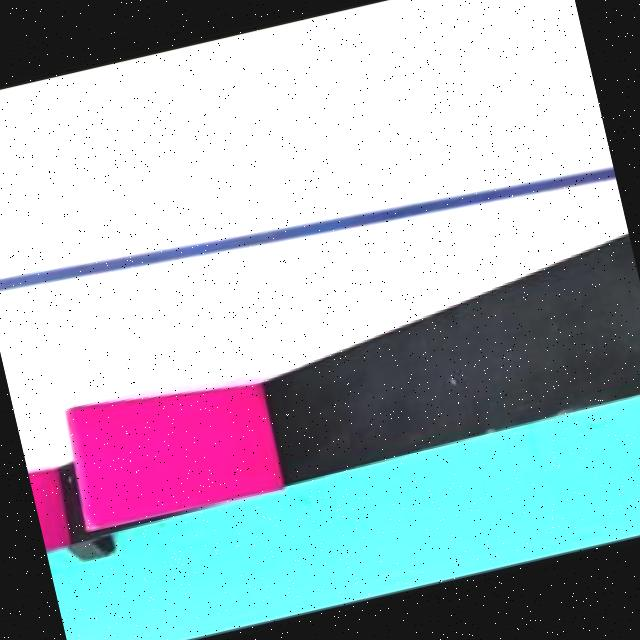xparking: (68, 371, 266, 521), (31, 466, 61, 538)
